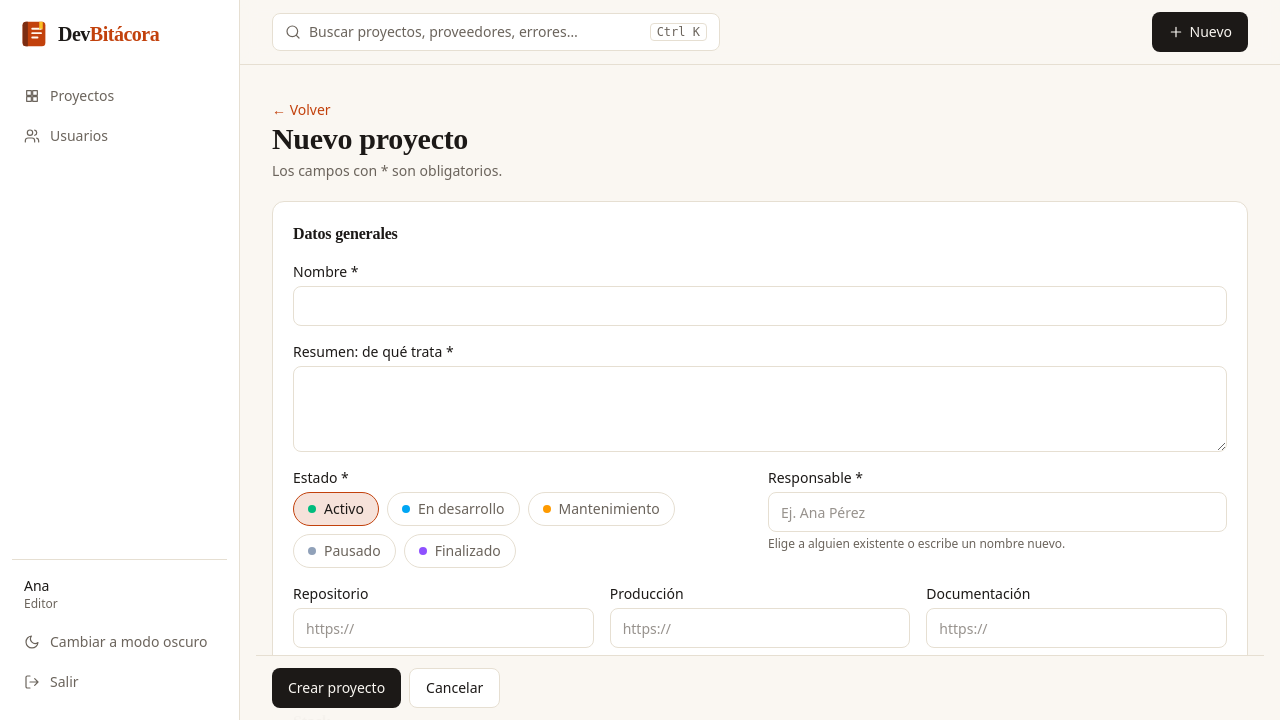
Test case: controles propios › el responsable se puede elegir de los existentes o crear uno nuevo
Later steps or results of the test are not shown.
In the dropdown labelled "Responsable *": (998, 512) x1=768 y1=492 x2=1227 y2=532, type "lu"
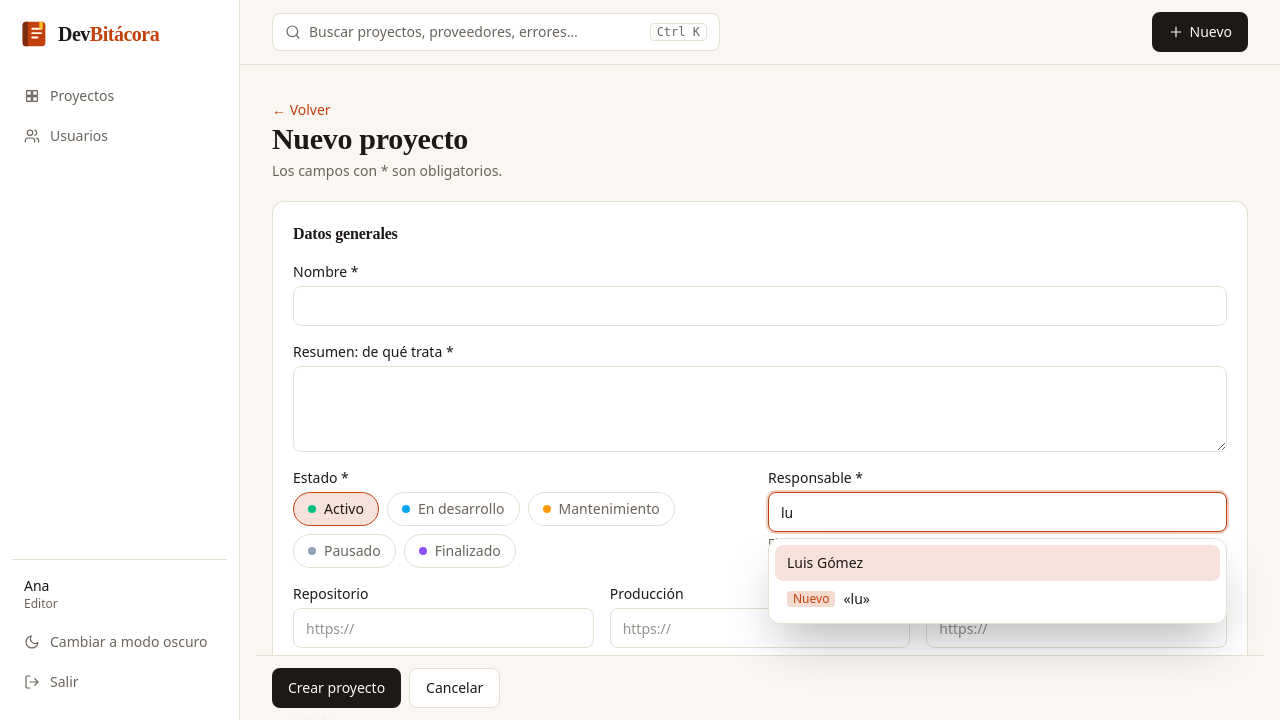
Click the option "Luis Gómez": (825, 562) x1=775 y1=545 x2=1220 y2=581
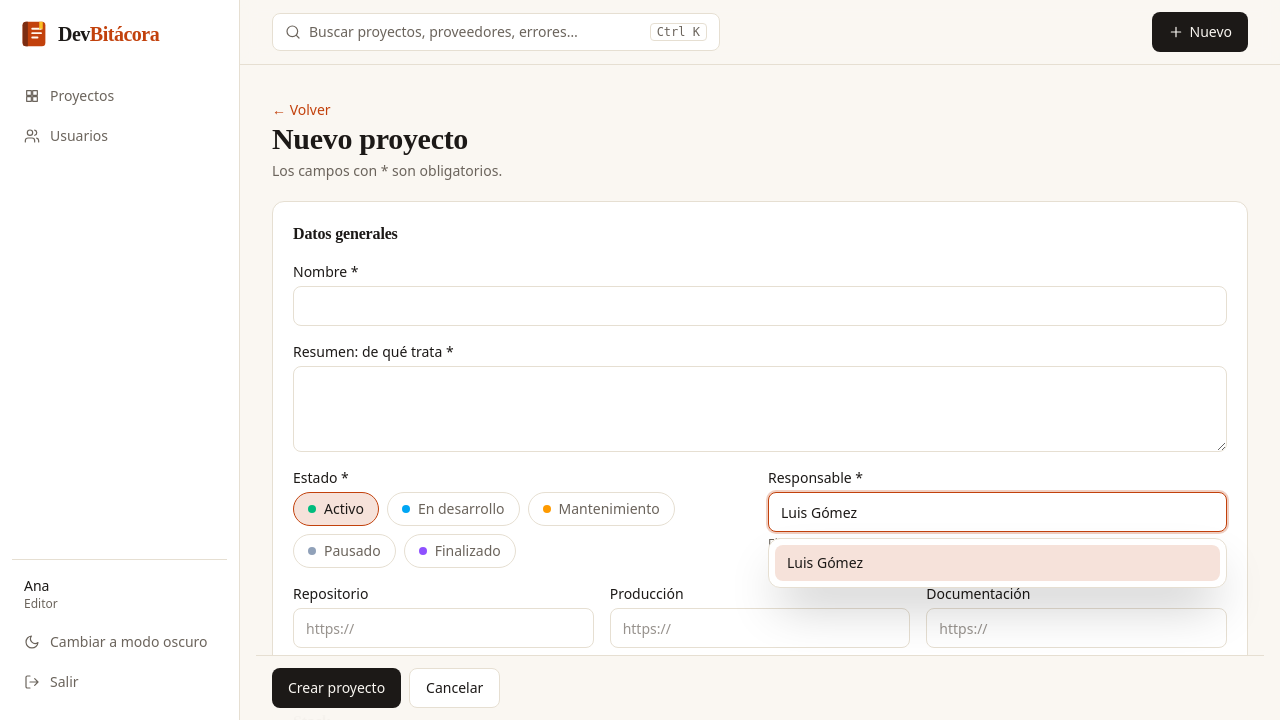
Result: the dropdown labelled "Responsable *" holds "Luis Gómez"
Replace the text in the dropdown labelled "Responsable *" with "Marta Ruiz": (998, 512) x1=768 y1=492 x2=1227 y2=532
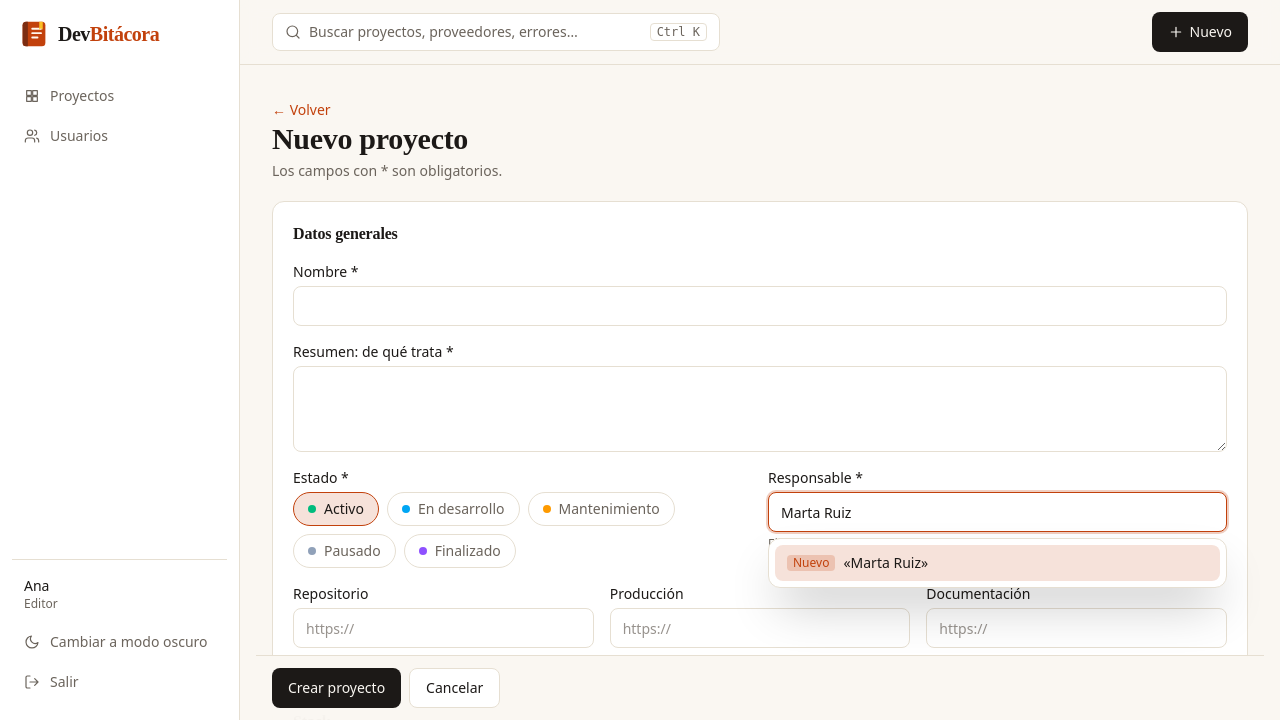
Result: the option "Nuevo «Marta Ruiz»" is shown at x1=775 y1=545 x2=1220 y2=581
